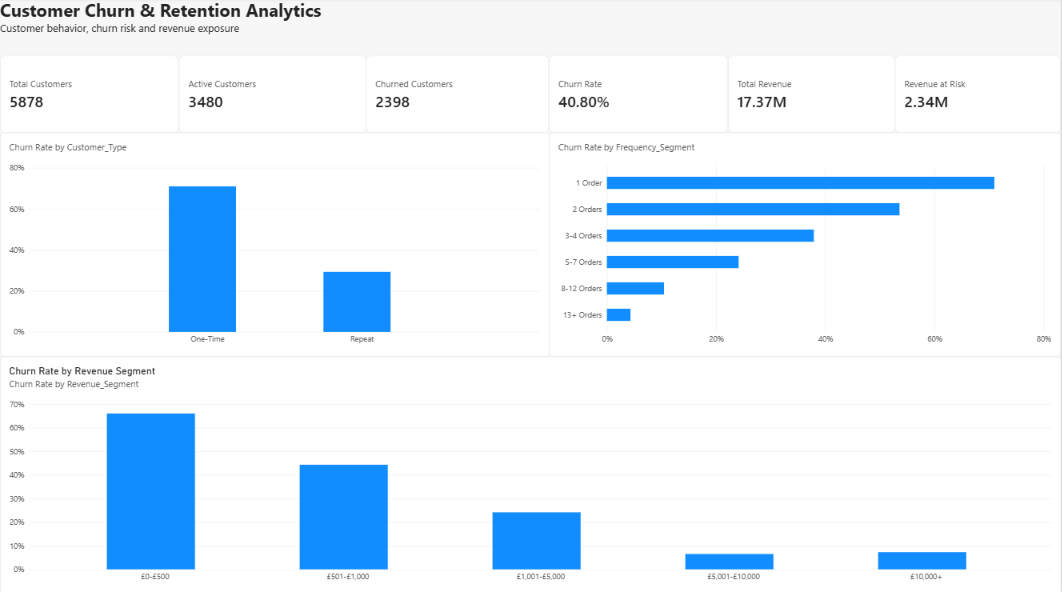

This screenshot's page, from the dashboard's own definition file:
{"tool":"powerbi","page":{"name":"Executive Churn Overview","canvas":[1920,1080],"ordinal":0},"visuals":[{"type":"cardVisual","fields":{"Data":["cancellation_returns_clean.Total Customers"]},"box":[0,105,323.2,140],"z":0},{"type":"cardVisual","fields":{"Data":["cancellation_returns_clean.Active Customers"]},"box":[323.2,105,339.6,140],"z":1000},{"type":"cardVisual","fields":{"Data":["cancellation_returns_clean.Churned Customers"]},"box":[662.8,105,331.4,140],"z":2000},{"type":"cardVisual","fields":{"Data":["cancellation_returns_clean.Churn Rate"]},"box":[994.2,105,323.2,140],"z":3000},{"type":"cardVisual","fields":{"Data":["cancellation_returns_clean.Total Revenue"]},"box":[1317.3,105,302.6,140],"z":4000},{"type":"cardVisual","fields":{"Data":["cancellation_returns_clean.Revenue at Risk"]},"box":[1619.9,105,300.5,140],"z":5000},{"type":"clusteredColumnChart","fields":{"Category":["customer_metrics.Customer_Type"],"Y":["cancellation_returns_clean.Churn Rate"]},"box":[0,244.9,994.2,405.5],"z":6000},{"type":"clusteredBarChart","fields":{"Category":["customer_metrics.Frequency_Segment"],"Y":["cancellation_returns_clean.Churn Rate"]},"box":[994.2,244.9,926.2,405.5],"z":7000},{"type":"clusteredColumnChart","title":"Churn Rate by Revenue Segment","fields":{"Category":["customer_metrics.Revenue_Segment"],"Y":["cancellation_returns_clean.Churn Rate"]},"box":[0,650.4,1920.4,430.2],"z":8000},{"type":"textbox","box":[0,759,533,321],"z":9000},{"type":"textbox","box":[0,0,1119.7,119.4],"z":10000}]}

Visuals, with their boxes in screenshot pixels (x1, y1, x2, y2), scaled from the page's 1920x1080 canvas onto the 1062x592 screenshot:
cardVisual - cancellation_returns_clean.Total Customers: (x1=0, y1=58, x2=179, y2=134)
cardVisual - cancellation_returns_clean.Active Customers: (x1=179, y1=58, x2=367, y2=134)
cardVisual - cancellation_returns_clean.Churned Customers: (x1=367, y1=58, x2=550, y2=134)
cardVisual - cancellation_returns_clean.Churn Rate: (x1=550, y1=58, x2=729, y2=134)
cardVisual - cancellation_returns_clean.Total Revenue: (x1=729, y1=58, x2=896, y2=134)
cardVisual - cancellation_returns_clean.Revenue at Risk: (x1=896, y1=58, x2=1061, y2=134)
clusteredColumnChart - customer_metrics.Customer_Type x cancellation_returns_clean.Churn Rate: (x1=0, y1=134, x2=550, y2=357)
clusteredBarChart - customer_metrics.Frequency_Segment x cancellation_returns_clean.Churn Rate: (x1=550, y1=134, x2=1061, y2=357)
"Churn Rate by Revenue Segment" clusteredColumnChart: (x1=0, y1=357, x2=1061, y2=591)
textbox: (x1=0, y1=416, x2=295, y2=591)
textbox: (x1=0, y1=0, x2=619, y2=65)
